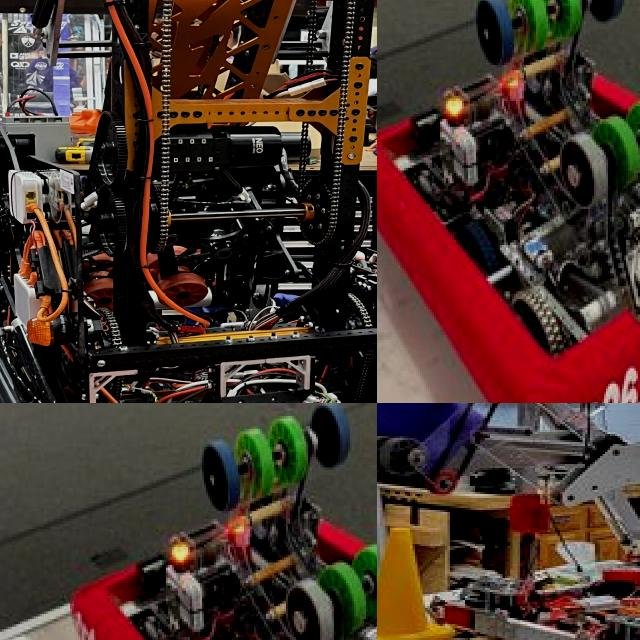FRC-Robots: (0, 0, 377, 403), (377, 0, 640, 403), (68, 403, 377, 640), (377, 403, 640, 640)
